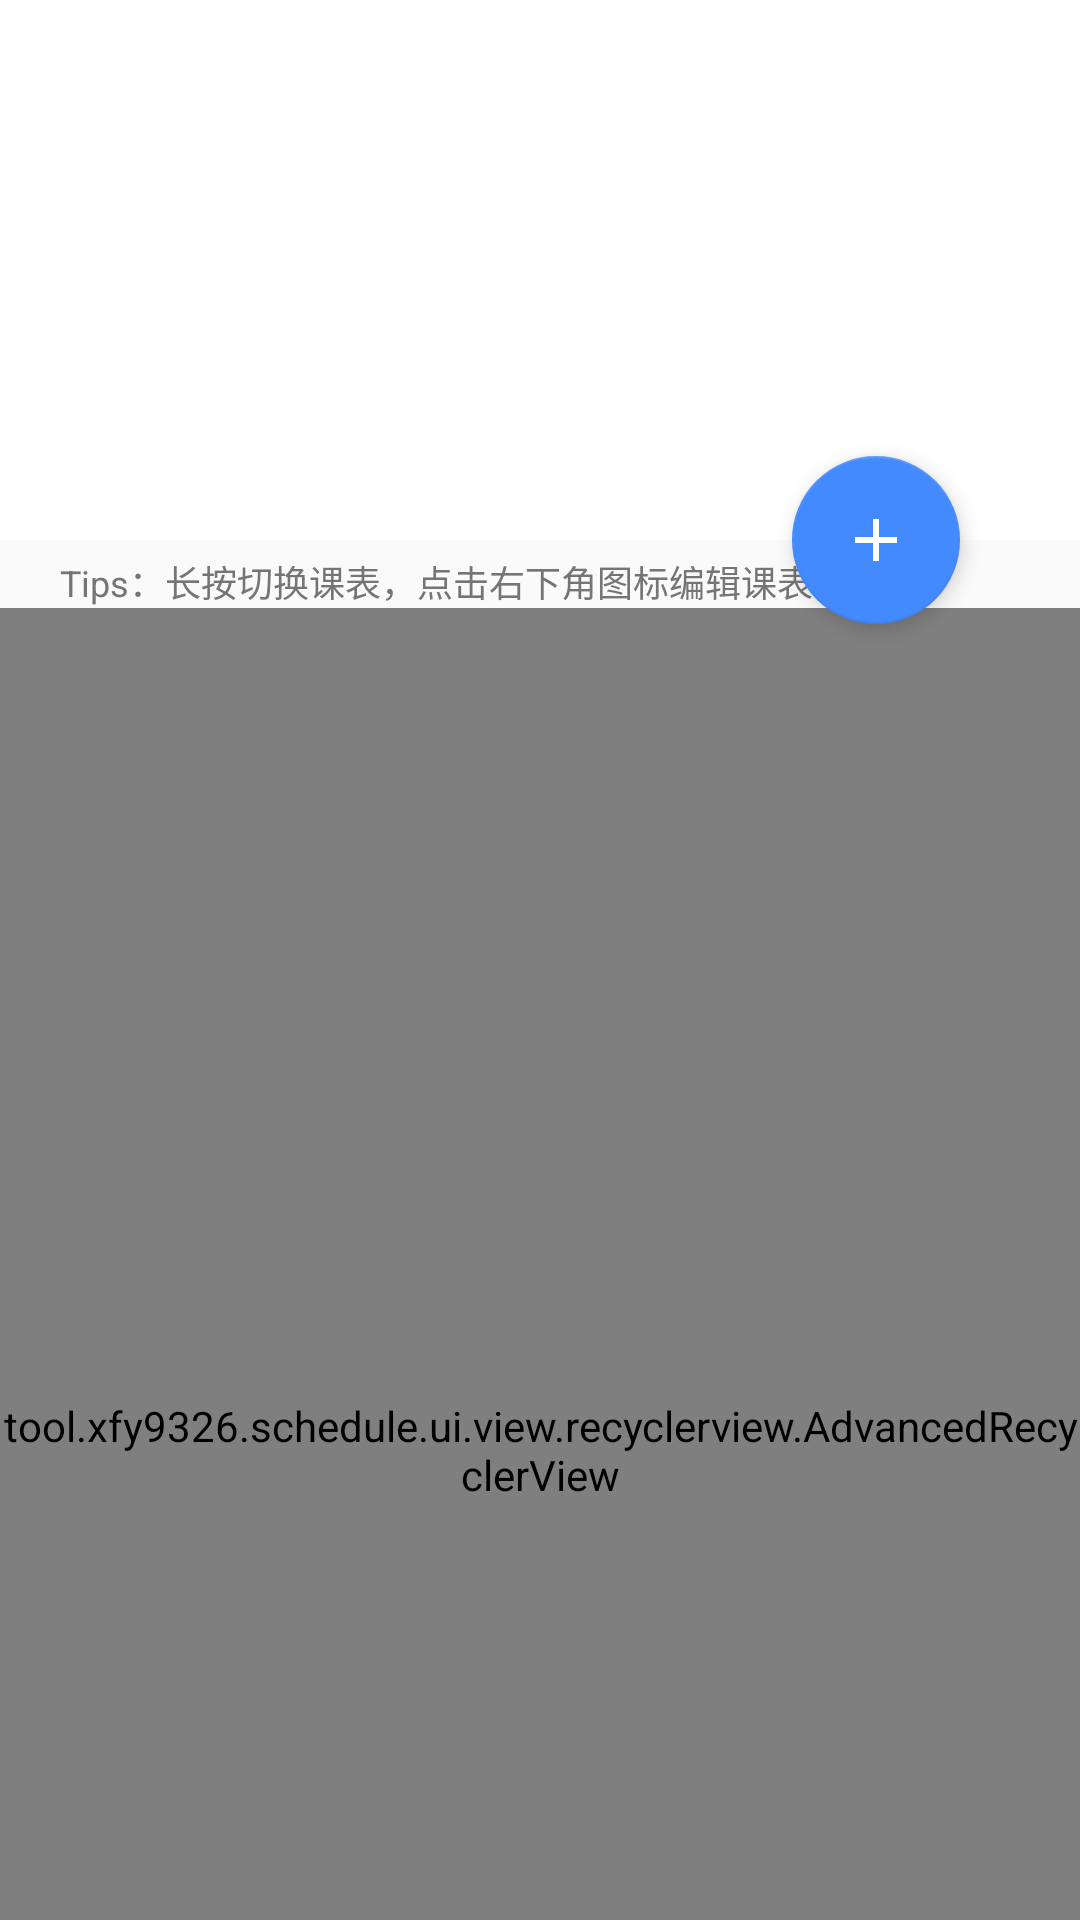

Icons on this 1080x1920 Android screen, each with the point to tap as [x,y]:
添加课表: [876,540]
